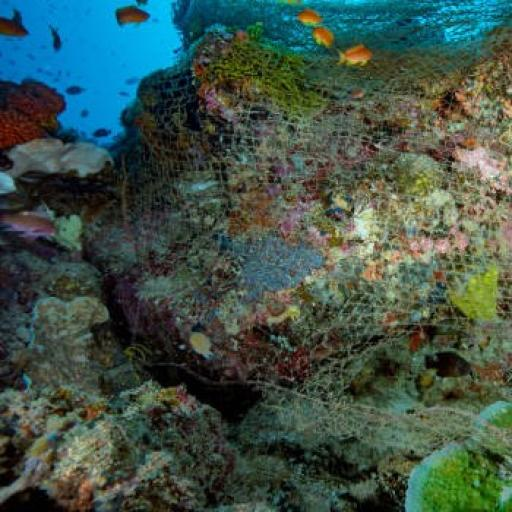net: (118, 0, 512, 463)
